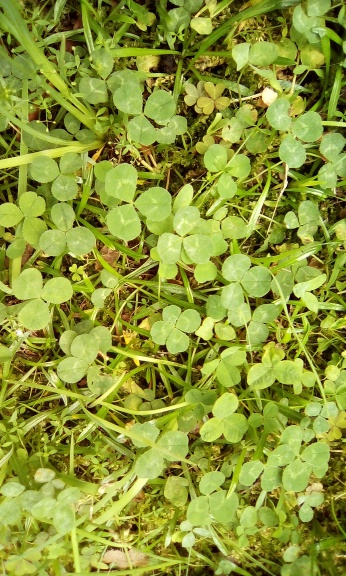4leaf: (150, 305, 201, 354)
